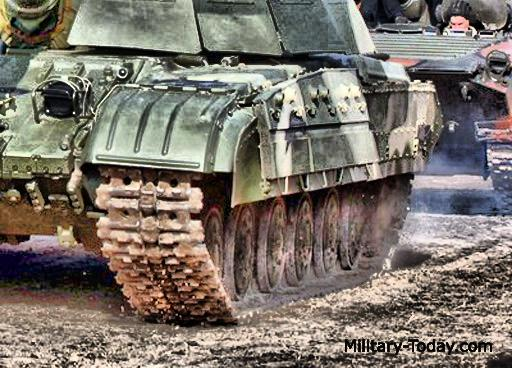tanks: (1, 1, 441, 325), (373, 1, 512, 213), (445, 1, 454, 5)
